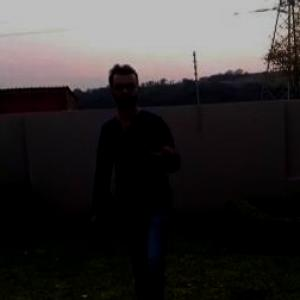land_hand: (146, 132, 187, 172)
